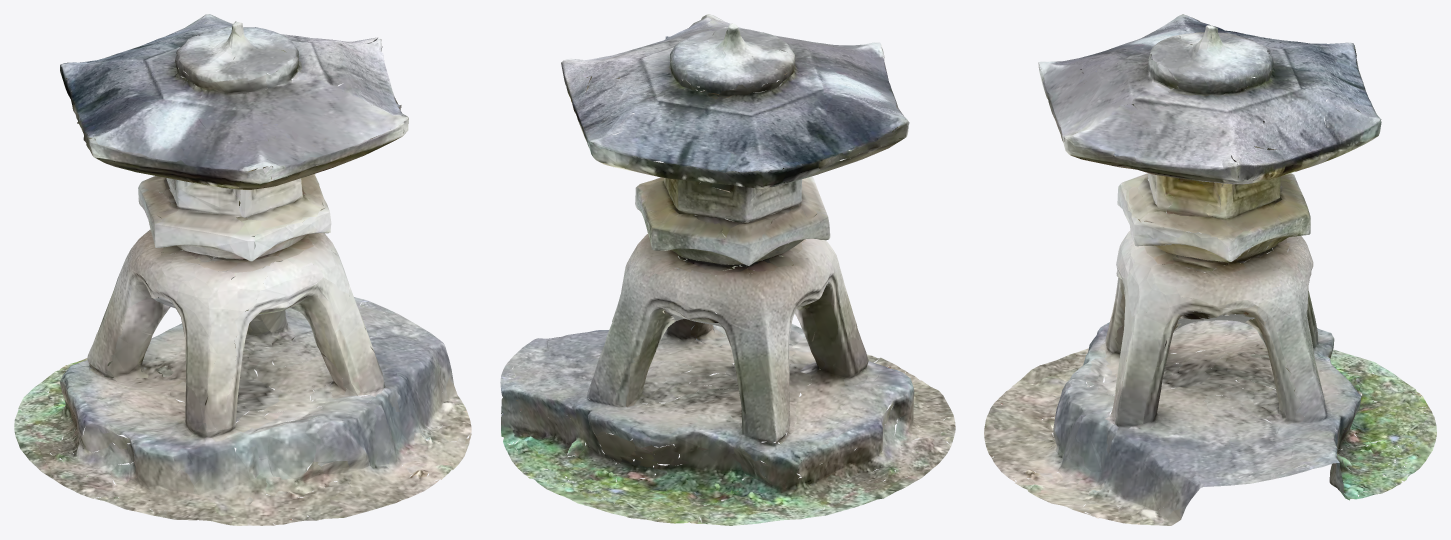
Rendered from golden_lantern.glb.
The picture shows the model from 3 angles, left to right: view 1: azimuth 30°, elevation 25°; view 2: azimuth 150°, elevation 25°; view 3: azimuth 270°, elevation 25°; orthographic projection.
Parts seen in each view (by area): view 1: Object_4, Object_6; view 2: Object_4, Object_6; view 3: Object_4, Object_6.
Part boxes in pixels (left/top/right/bottom): Object_4: left=18, top=15, right=471, bottom=525; Object_6: left=14, top=14, right=471, bottom=525; Object_4: left=500, top=14, right=955, bottom=525; Object_6: left=501, top=14, right=955, bottom=523; Object_4: left=984, top=14, right=1433, bottom=519; Object_6: left=989, top=14, right=1436, bottom=525.
Size of the model in its own units: 3.42 by 3.41 by 3.43.
Materials: 3 (3 with a texture image).
